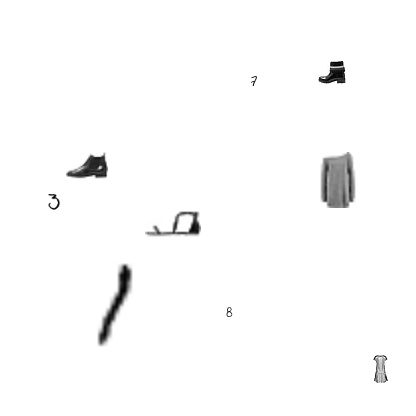1: (59, 245, 171, 357)
3: (43, 190, 65, 212)
7: (247, 73, 261, 87)
8: (222, 305, 236, 319)
Ankle_boot: (66, 145, 108, 187), (318, 58, 346, 86)
Dress: (309, 152, 365, 208), (366, 355, 394, 383)
Sandal: (145, 194, 201, 250)
